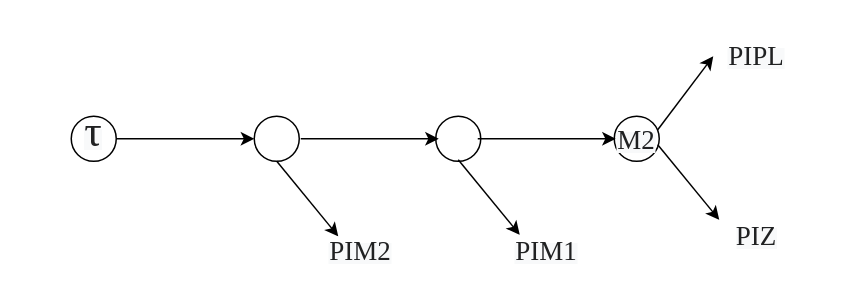
This 849x306 diagram has some shape labels left out. Here are the shapes that lost their labels. From the top down, the centre of each, then its label:
[276,138]: M4
[457,138]: M3
